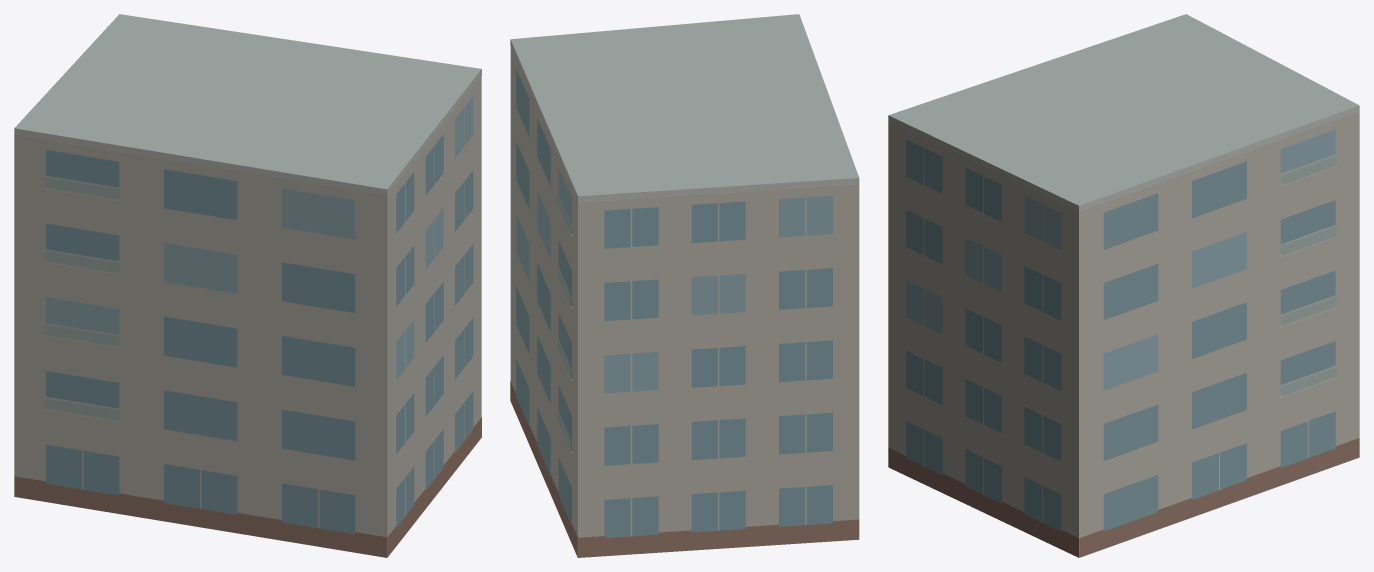
The model's file is survey-upis-32738937.glb.
3 views of the same model, side by side, from view 1: azimuth 30°, elevation 25°; view 2: azimuth 150°, elevation 25°; view 3: azimuth 270°, elevation 25° (orthographic). The views are drawn at different scales.
Parts seen in each view (by area): view 1: survey-upis-32738937.tmp; view 2: survey-upis-32738937.tmp; view 3: survey-upis-32738937.tmp.
Boxes of the visible parts, <box> form: survey-upis-32738937.tmp: <box>14,14,481,557</box>; survey-upis-32738937.tmp: <box>510,14,859,557</box>; survey-upis-32738937.tmp: <box>888,14,1359,557</box>.
Bounding box in the file's own units: 16.37 × 14 × 17.
